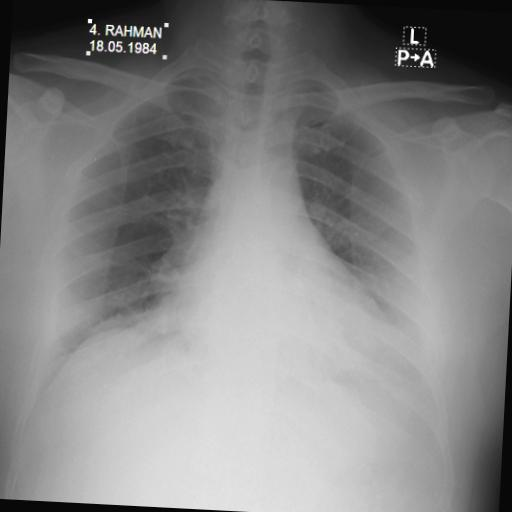kardiomegali: (25, 20, 473, 440)
